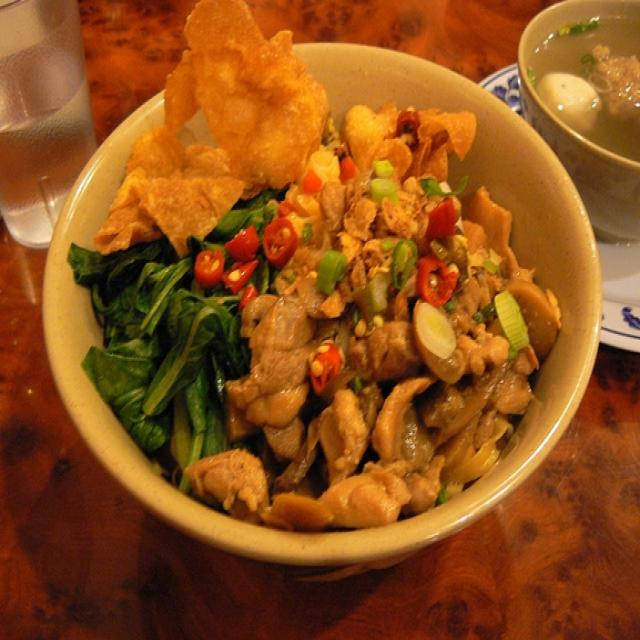面条主食: (53, 54, 586, 558)
